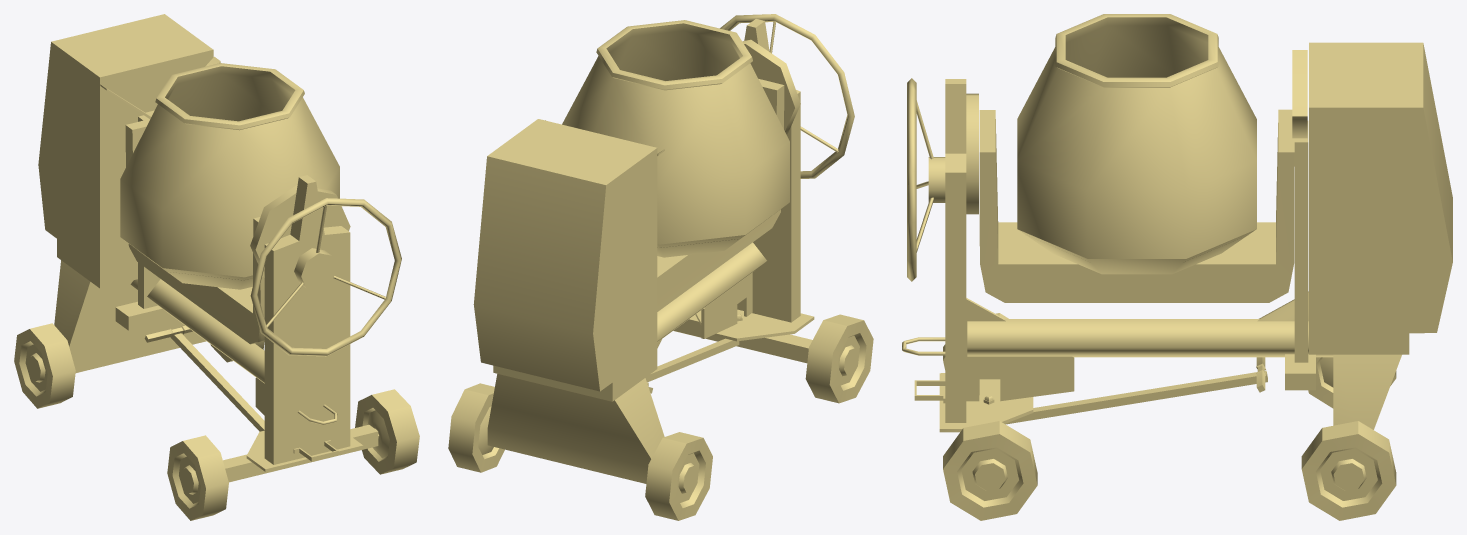
File: SM_CementMixerLOD3.FBX
3 views of the same model, side by side, from view 1: azimuth 30°, elevation 25°; view 2: azimuth 150°, elevation 25°; view 3: azimuth 270°, elevation 25° (orthographic). The views are drawn at different scales.
Parts seen in each view (by area): view 1: LOD3_MainPart, LOD3_Basket, LOD3_BackTires, LOD3_Wheel, LOD3_Pivot, LOD3_FrontTires, LOD3_TracktingPart, LOD3_Pulley; view 2: LOD3_MainPart, LOD3_Basket, LOD3_FrontTires, LOD3_BackTires, LOD3_Pivot, LOD3_TracktingPart, LOD3_Wheel, LOD3_Pulley; view 3: LOD3_MainPart, LOD3_Basket, LOD3_Pivot, LOD3_FrontTires, LOD3_BackTires, LOD3_TracktingPart, LOD3_Wheel, LOD3_Pulley.
Part boxes in pixels (x1,y1,x2,y2): LOD3_MainPart: (38,14,363,471); LOD3_Basket: (120,63,339,289); LOD3_BackTires: (167,389,419,520); LOD3_Wheel: (250,198,401,356); LOD3_Pivot: (125,119,264,344); LOD3_FrontTires: (14,323,264,408); LOD3_TracktingPart: (144,325,378,482); LOD3_Pulley: (250,184,350,277); LOD3_MainPart: (473,19,814,483); LOD3_Basket: (562,20,789,257); LOD3_FrontTires: (448,383,712,520); LOD3_BackTires: (657,314,873,403); LOD3_Pivot: (657,79,784,311); LOD3_TracktingPart: (645,313,812,393); LOD3_Wheel: (720,14,854,178); LOD3_Pulley: (742,39,800,134); LOD3_MainPart: (902,42,1452,432); LOD3_Basket: (1017,14,1256,274); LOD3_Pivot: (979,109,1294,302); LOD3_FrontTires: (1301,357,1396,520); LOD3_BackTires: (943,313,1037,520); LOD3_TracktingPart: (983,357,1267,424); LOD3_Wheel: (907,78,945,281); LOD3_Pulley: (966,93,978,214).
Bounding box in the file's own units: 0.8896 × 1.4 × 1.7.
